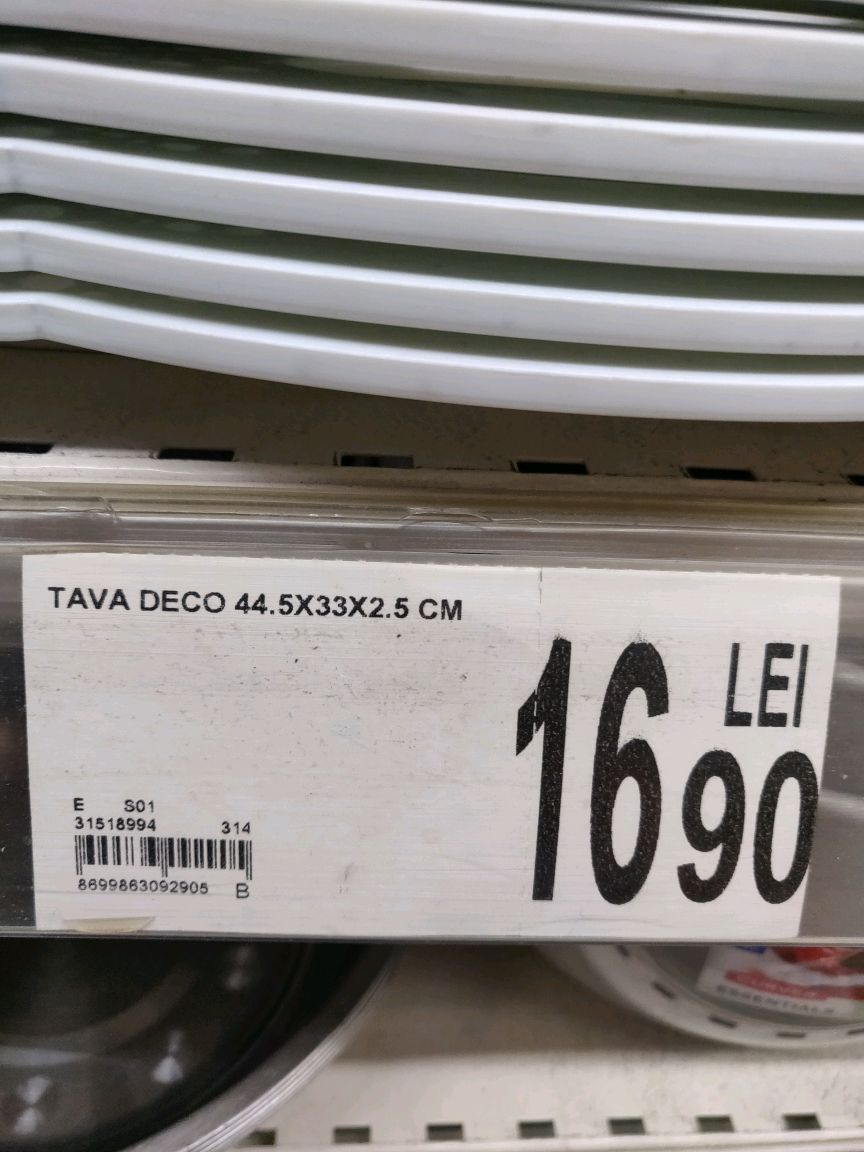price_bani: (672, 741, 830, 932)
price_lei: (497, 632, 678, 907)
price_tag: (8, 544, 850, 970)
product_id: (71, 875, 218, 901)
product_name: (36, 581, 471, 636)
